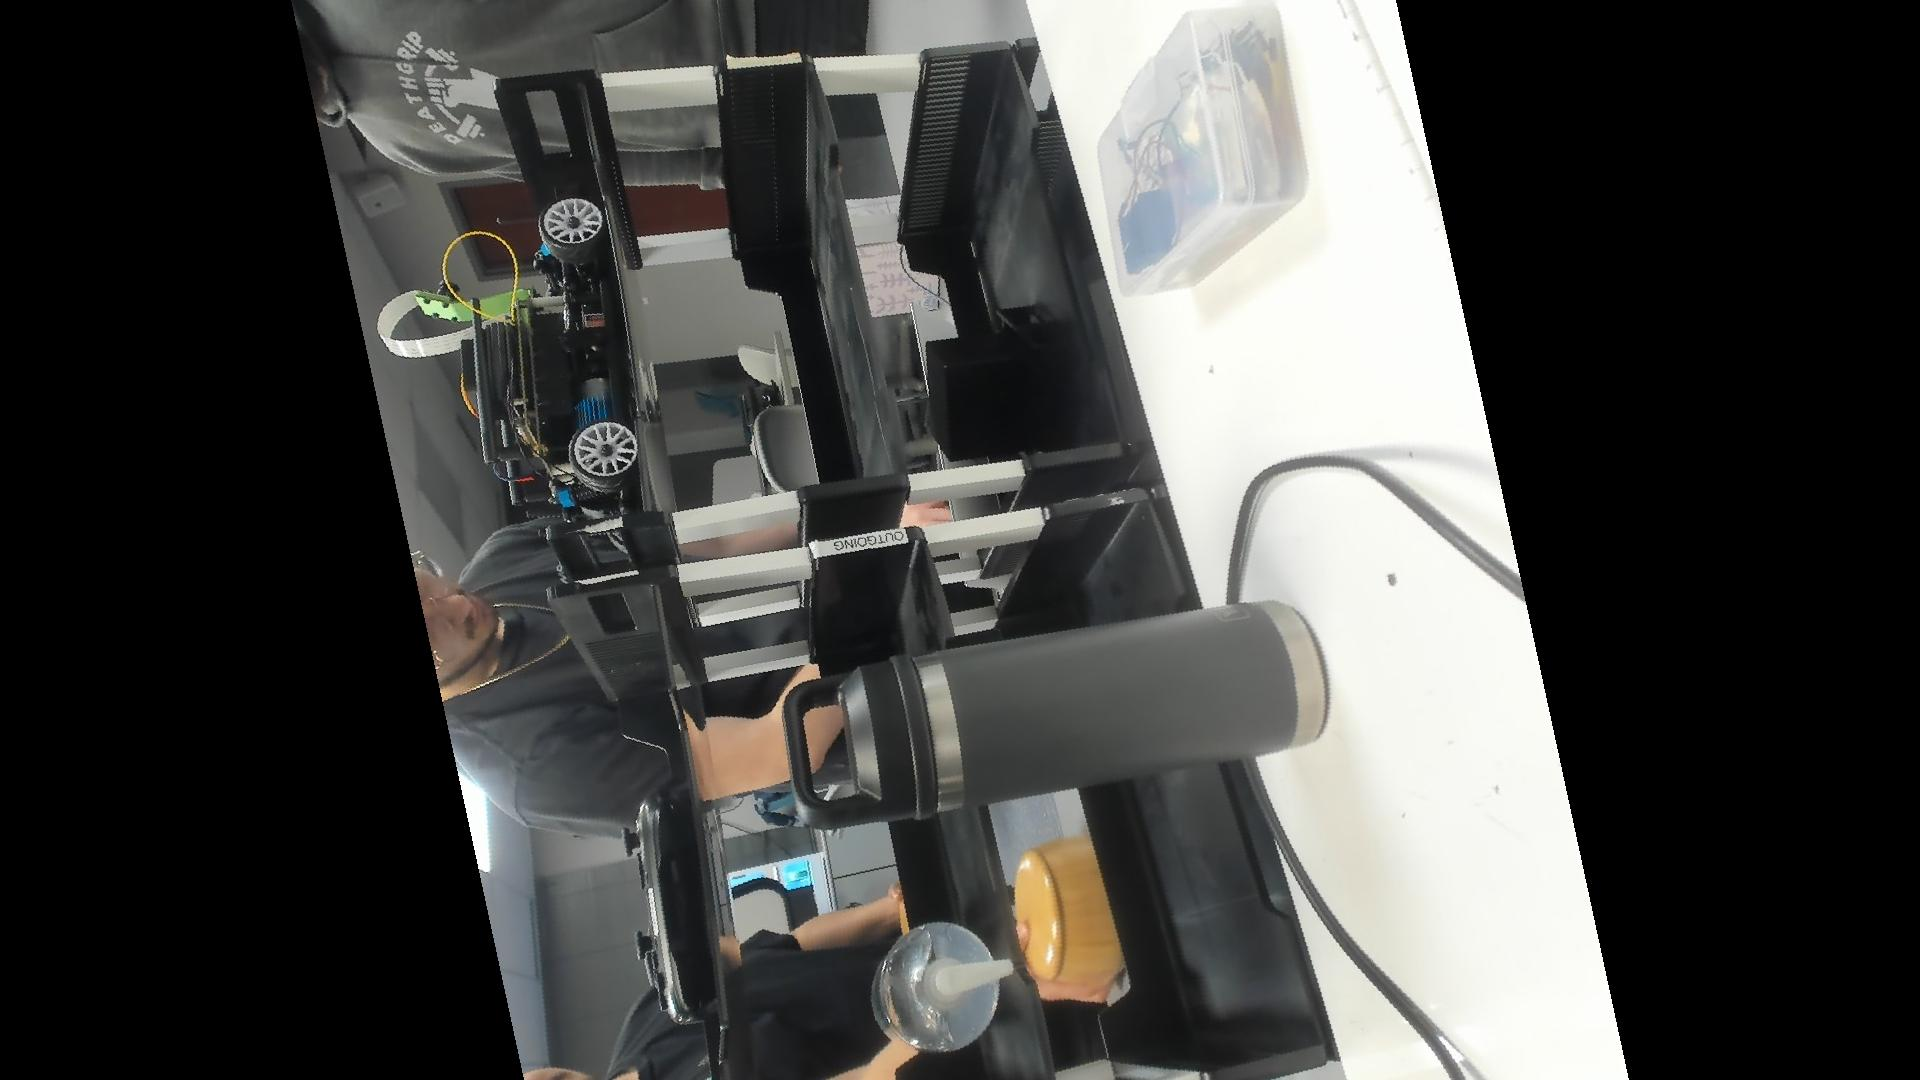black pallet: (920, 299, 1073, 472)
